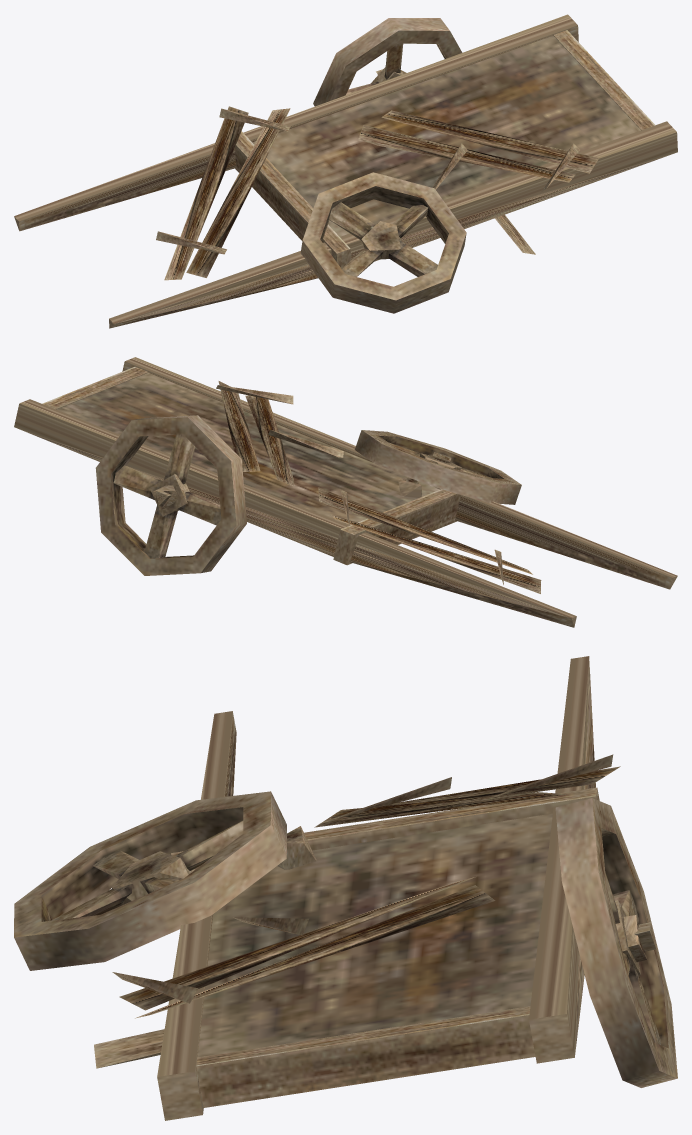
The model's file is desert_cart01_lod_01.fbx.
3 renders of one model, top to bottom at view 1: azimuth 30°, elevation 25°; view 2: azimuth 150°, elevation 25°; view 3: azimuth 270°, elevation 25°, orthographic. The views are drawn at different scales.
Parts seen in each view (by area): view 1: Bip01; view 2: Bip01; view 3: Bip01.
Boxes of the visible parts, x1,y1,x2,y2 form: Bip01: (14,14,677,328); Bip01: (14,357,677,627); Bip01: (14,656,677,1120).
Bounding box in the file's own units: 4.83 × 1.24 × 2.73.
